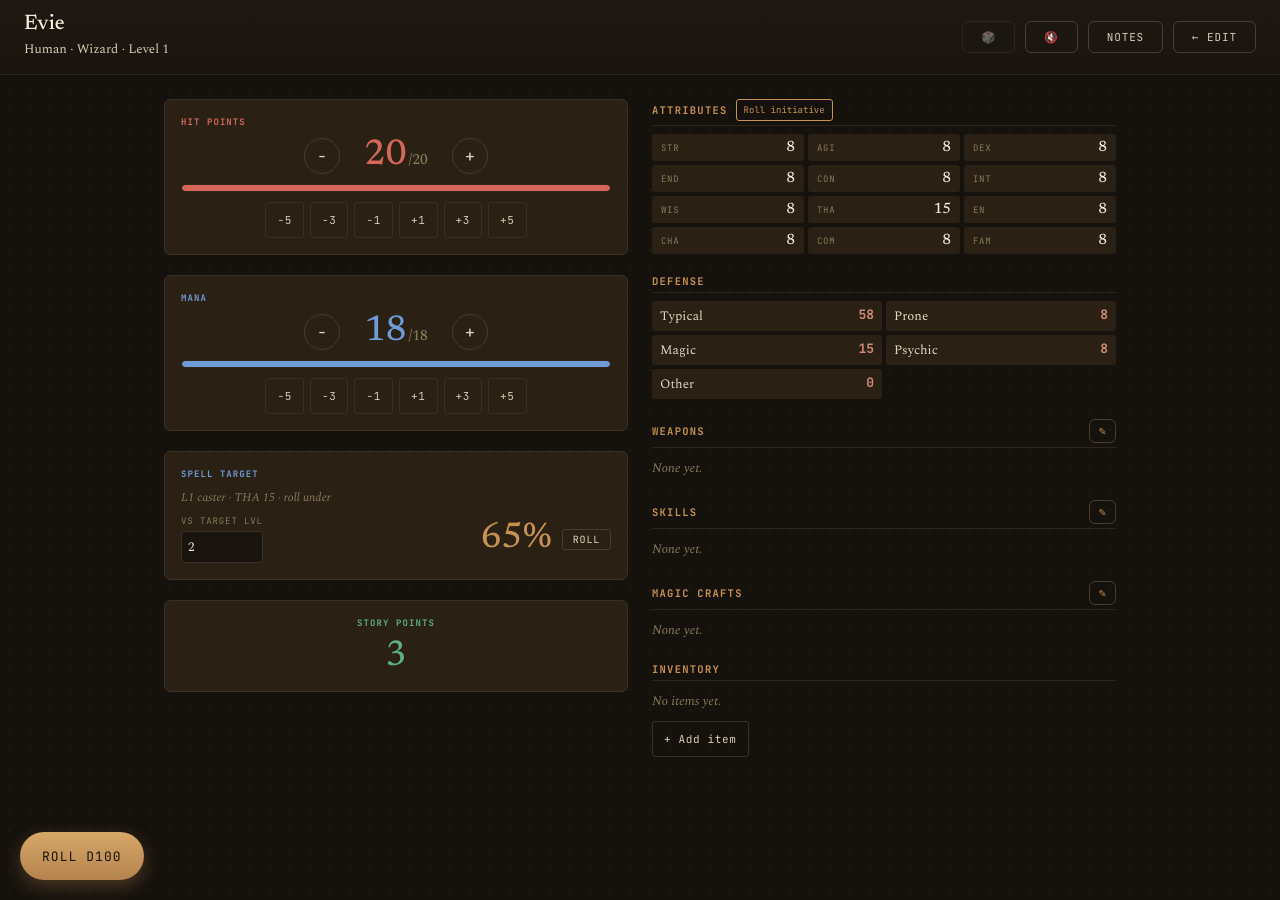
PlayMode spell-target tile is zone-aware (#245) › adds the attribute in green/yellow zones (L1 vs L2 → 55%)
Select "2" in the dropdown named "Target level". click: x=222, y=547
box: x1=181 y1=531 x2=263 y2=563
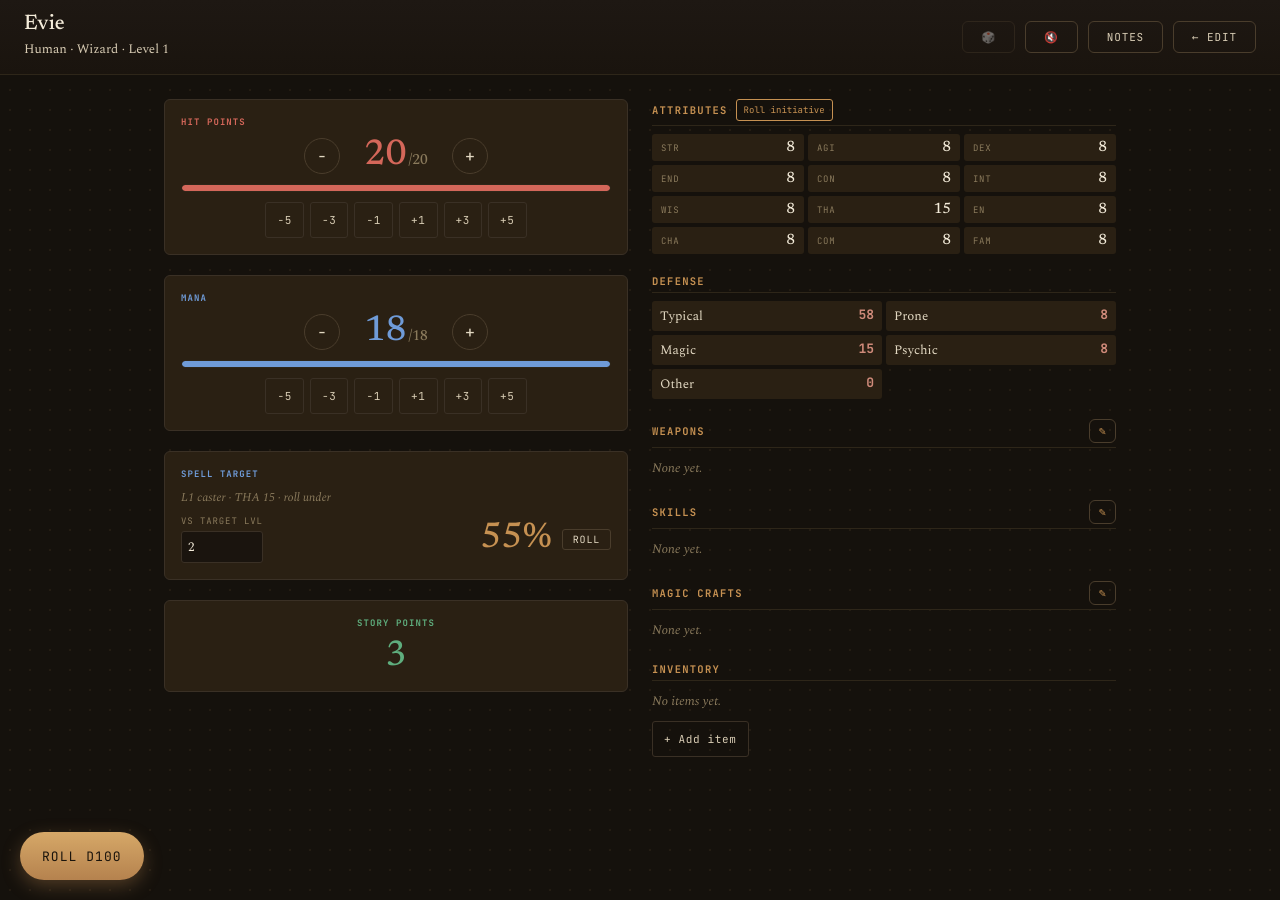
Now the text "55%" is shown, box x1=480 y1=521 x2=552 y2=557
